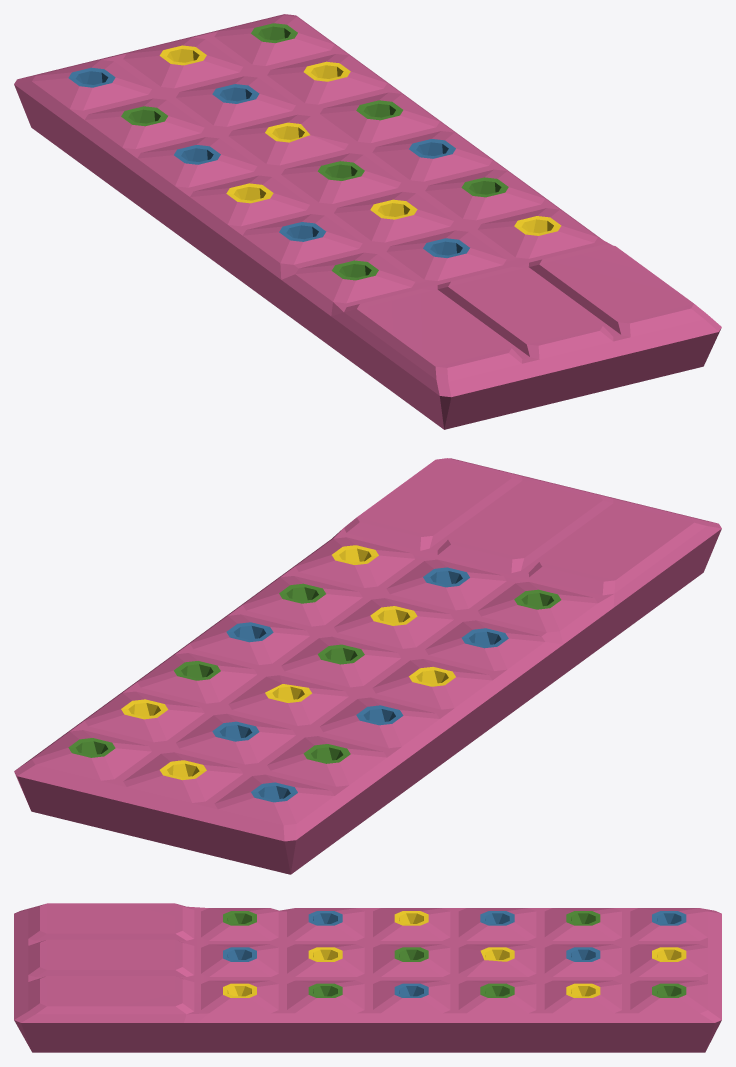
Rendered from beach_mat-inflatable-a.fbx.
3 renders of one model, top to bottom at view 1: azimuth 30°, elevation 25°; view 2: azimuth 150°, elevation 25°; view 3: azimuth 270°, elevation 25°, orthographic. The views are drawn at different scales.
Parts seen in each view (by area): view 1: beach_mat_inflatable_a; view 2: beach_mat_inflatable_a; view 3: beach_mat_inflatable_a.
Boxes of the visible parts, bbox=[...] form: beach_mat_inflatable_a: bbox=[14, 14, 721, 429]; beach_mat_inflatable_a: bbox=[14, 458, 721, 874]; beach_mat_inflatable_a: bbox=[14, 903, 721, 1052].
Size of the model in its own units: 75.05 by 14.43 by 200.
